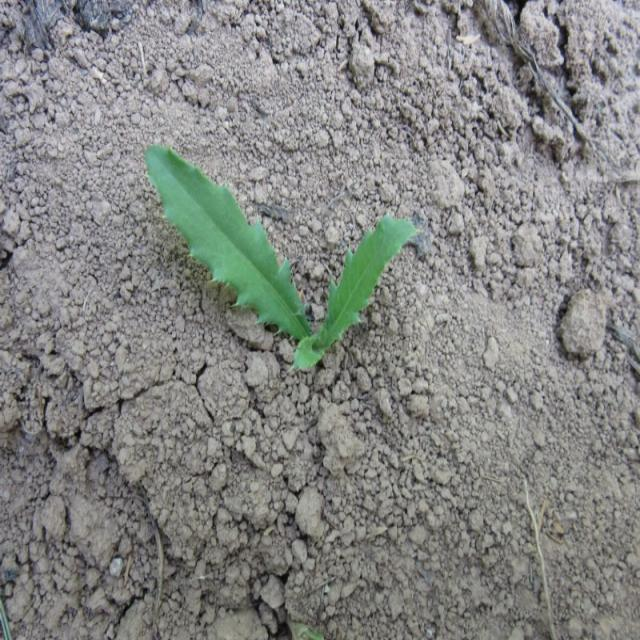field_thistle: (132, 129, 418, 393)
